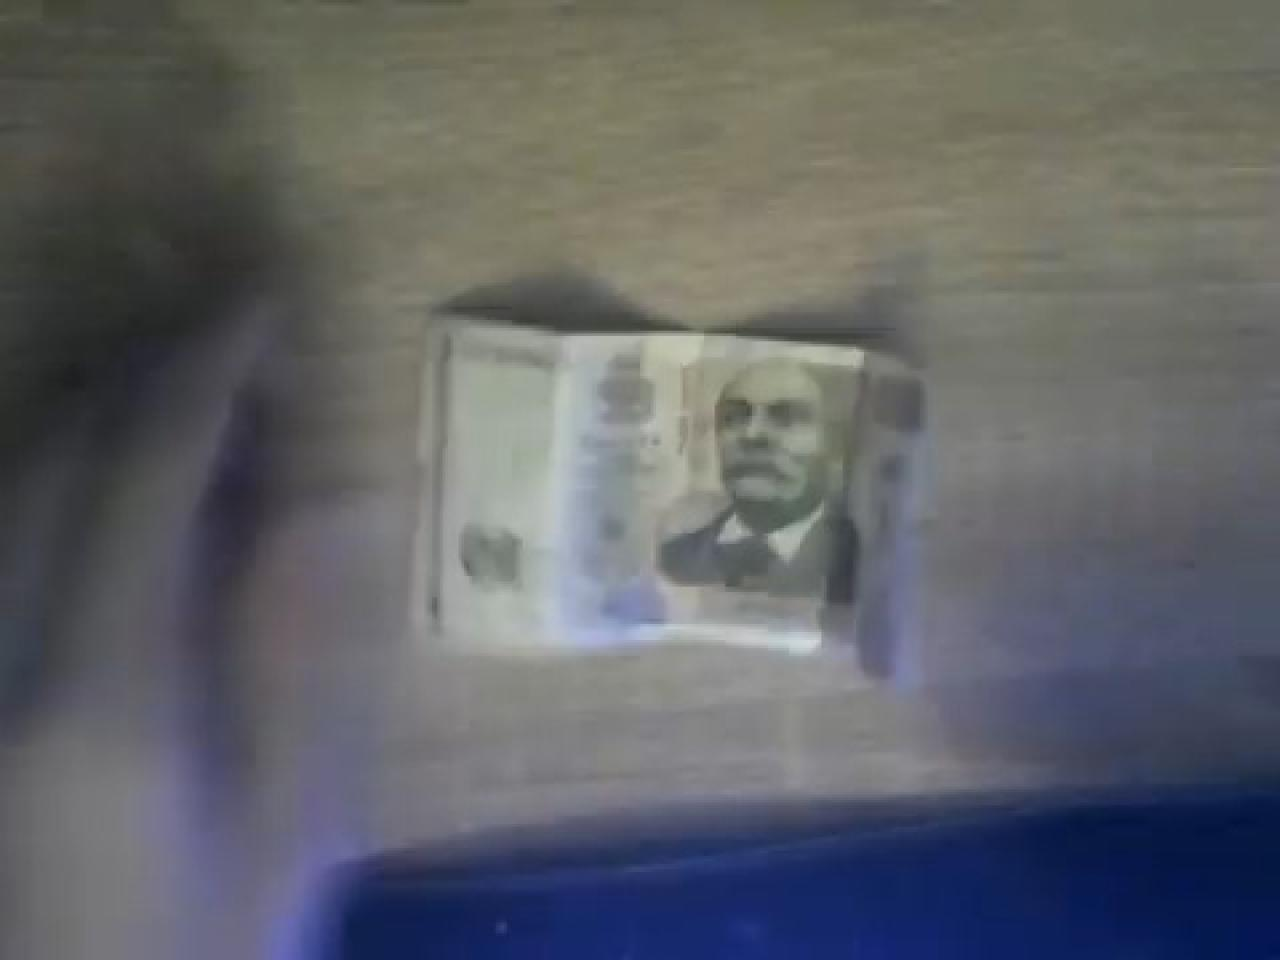10leva: (410, 307, 933, 683)
